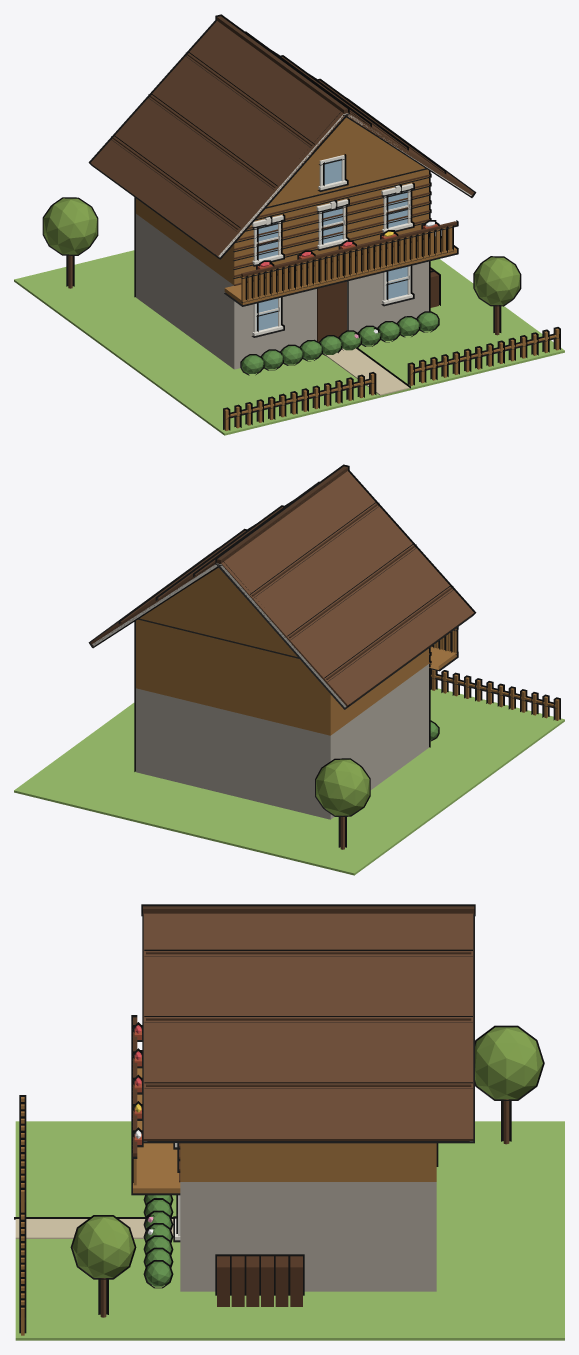
File: Konut_sale_3.fbx
The picture shows the model from 3 angles, top to bottom: view 1: azimuth 30°, elevation 25°; view 2: azimuth 150°, elevation 25°; view 3: azimuth 270°, elevation 25°; orthographic projection. The views are drawn at different scales.
Visible parts, largest first — view 1: Konut_sale_3; view 2: Konut_sale_3; view 3: Konut_sale_3.
Part boxes in pixels (x1,y1,x2,y2): Konut_sale_3: [14, 14, 564, 435]; Konut_sale_3: [14, 464, 564, 875]; Konut_sale_3: [14, 904, 564, 1340].
Size of the model in its own units: 14 by 9.82 by 15.05.
